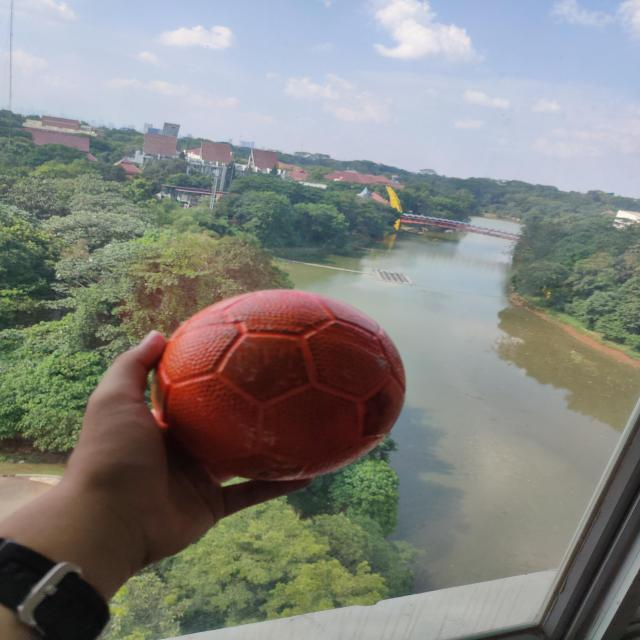bola: (137, 284, 426, 481)
